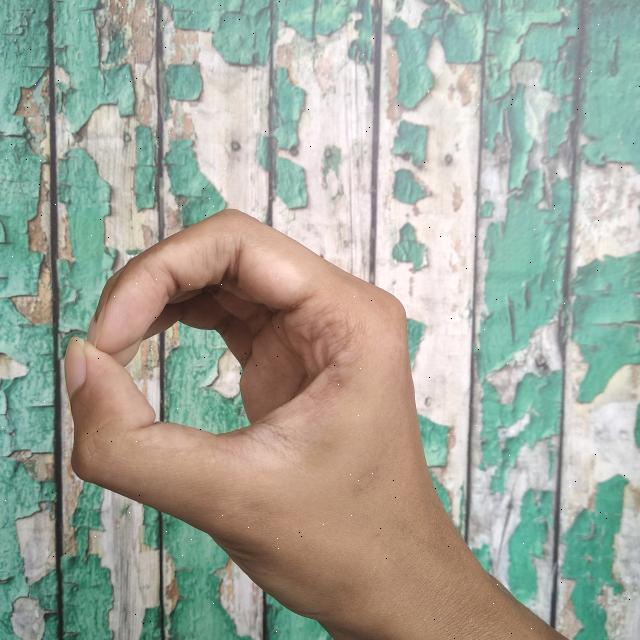O: (56, 198, 570, 640)
